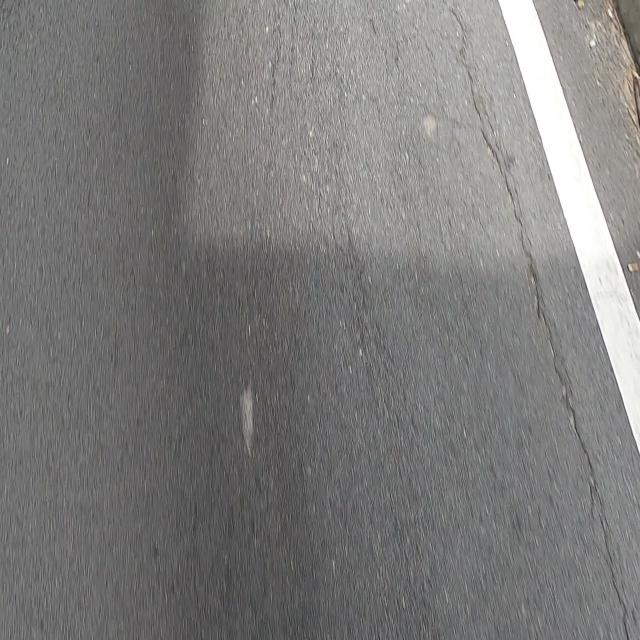Retak-Memanjang: (481, 133, 631, 639)
